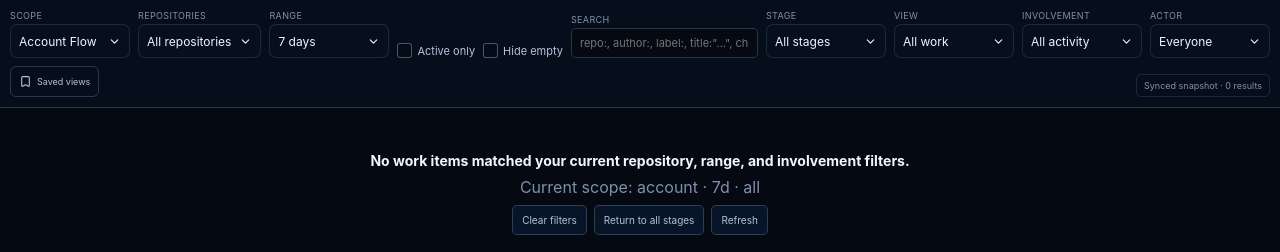
Test: FlowWorkbench › renders repository selector and empty state when repository scope is selected without a repo
The width and height of the screenshot is (1280, 252).
Click the dropdown named "Flow scope" at point(70, 41), box 10,24 -> 130,58
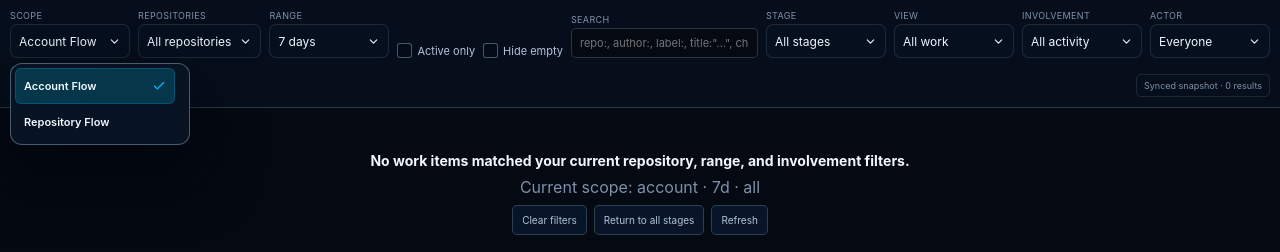
Click the option "Repository Flow" at point(95, 122), box 15,104 -> 175,140
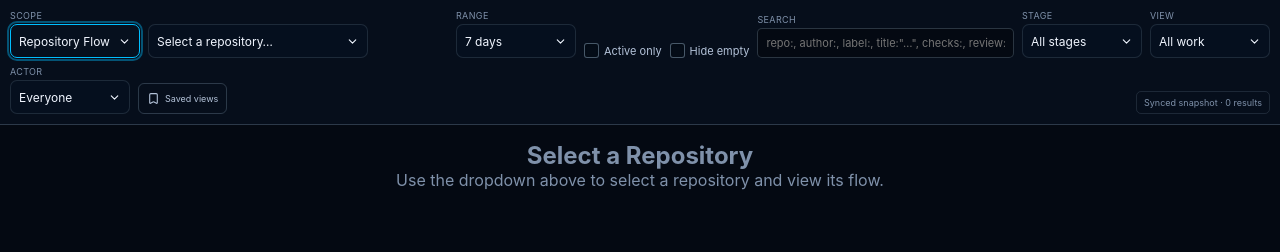
Expected: the heading "Select a Repository" is shown, 527,141 -> 753,170
Expected: the dropdown labelled "repository" is shown, 148,24 -> 368,58
